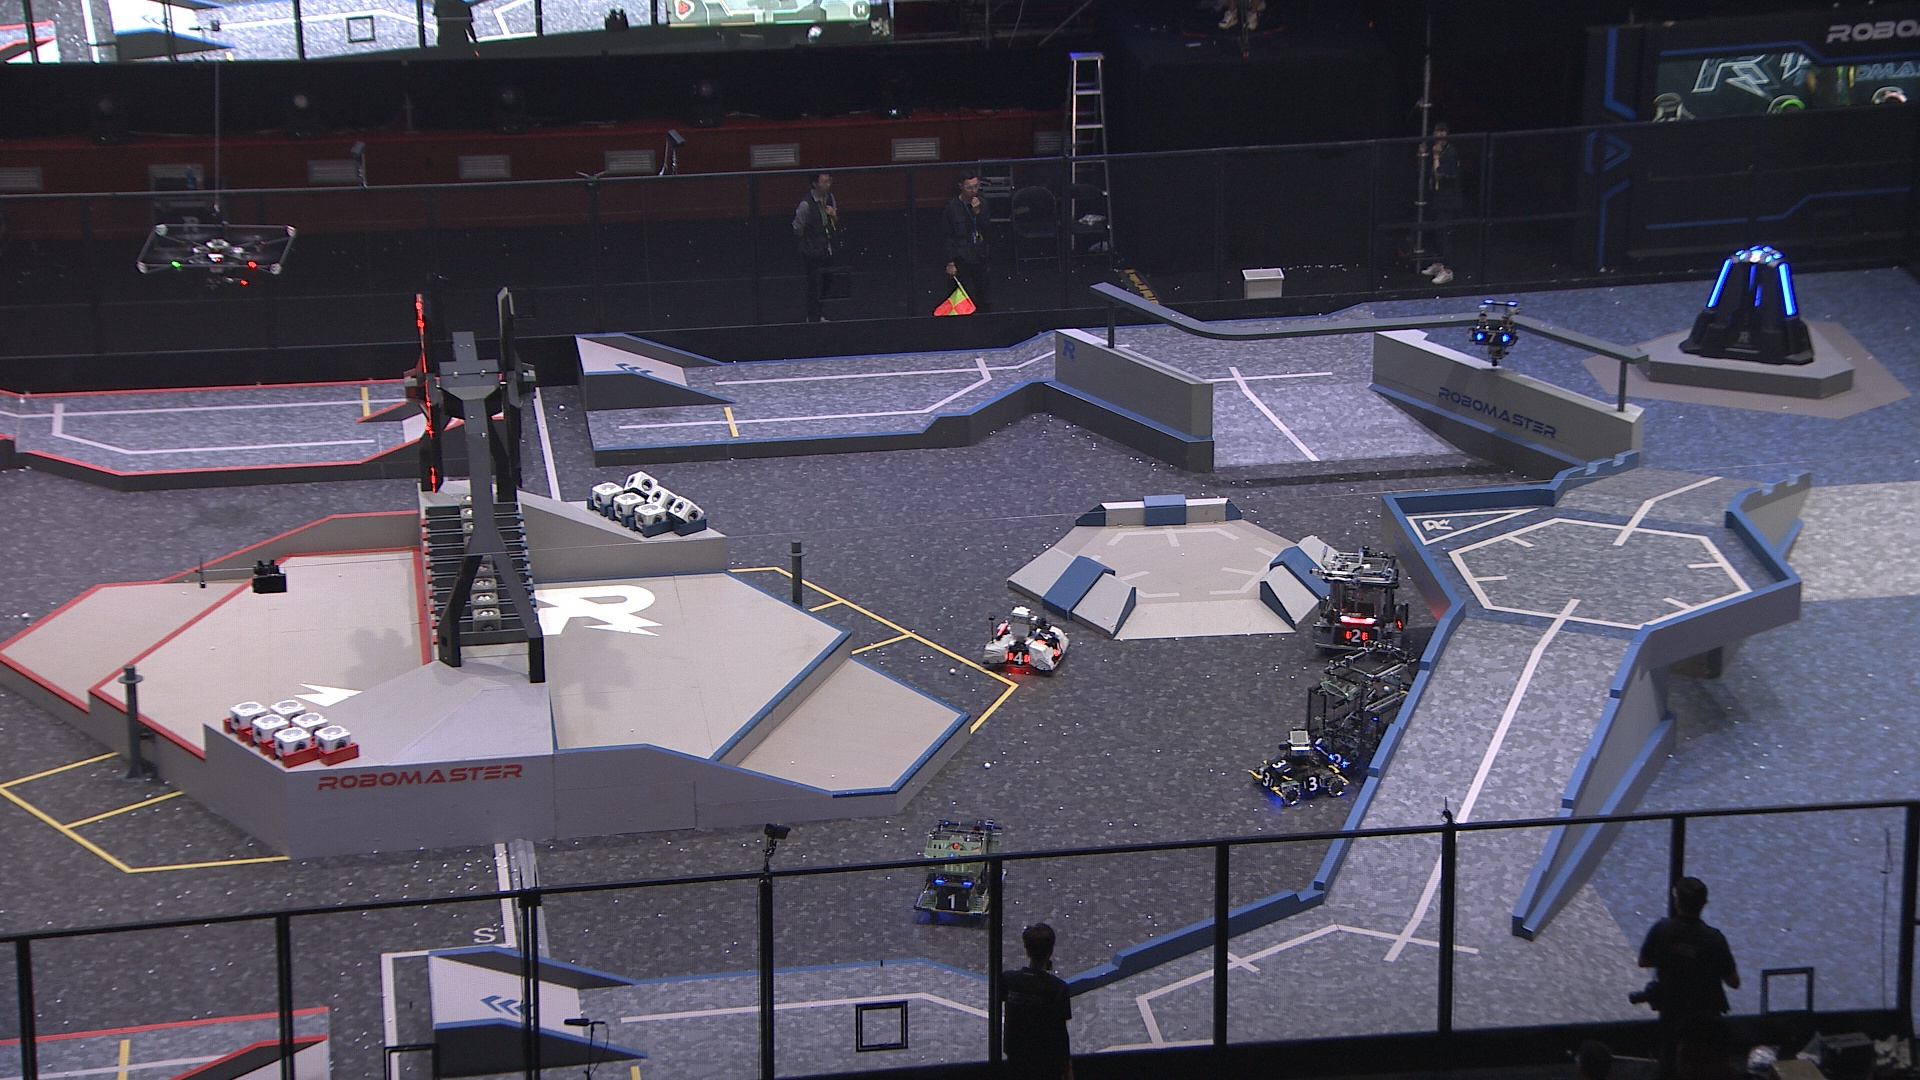armor: (1704, 258, 1731, 311), (1779, 262, 1797, 319), (936, 891, 971, 913), (1735, 248, 1774, 264), (1476, 330, 1509, 345), (1342, 628, 1370, 646), (1746, 262, 1760, 291), (1300, 774, 1323, 793), (1006, 651, 1035, 665), (1327, 752, 1349, 767), (1269, 760, 1291, 775), (1048, 638, 1065, 657), (1259, 769, 1273, 793), (1034, 626, 1054, 642)
base: (1679, 244, 1817, 368)
car: (1305, 642, 1418, 778), (1311, 555, 1408, 657), (913, 820, 1007, 922), (1244, 727, 1346, 804), (981, 604, 1073, 676)
watcher: (1470, 299, 1519, 367)
